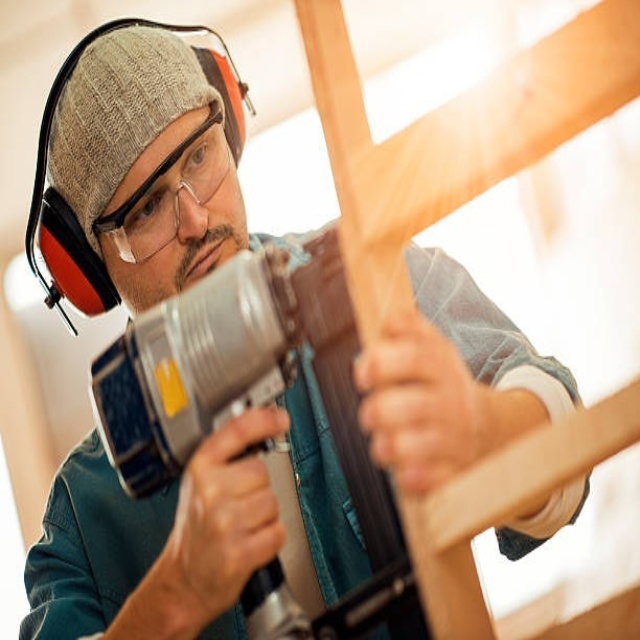Gafas: (99, 122, 235, 266)
Sin_guantes: (163, 402, 292, 617), (351, 301, 491, 494)
Sin_mascara: (173, 226, 234, 289)
